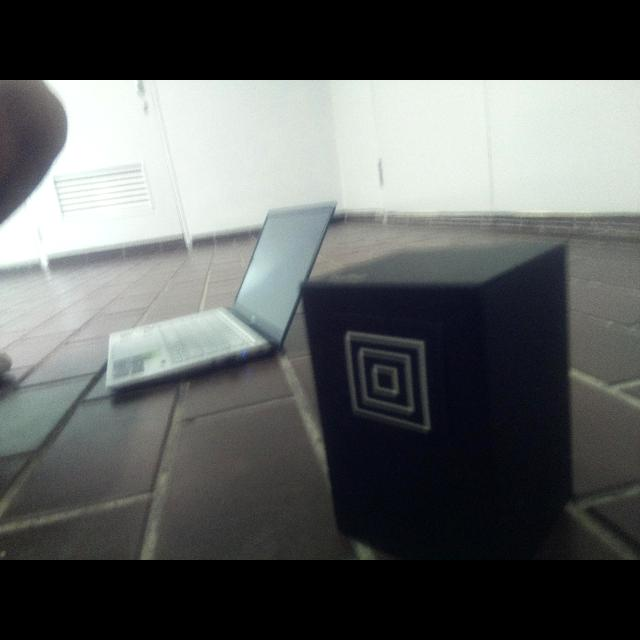BULLSEYE: (344, 331, 430, 432)
